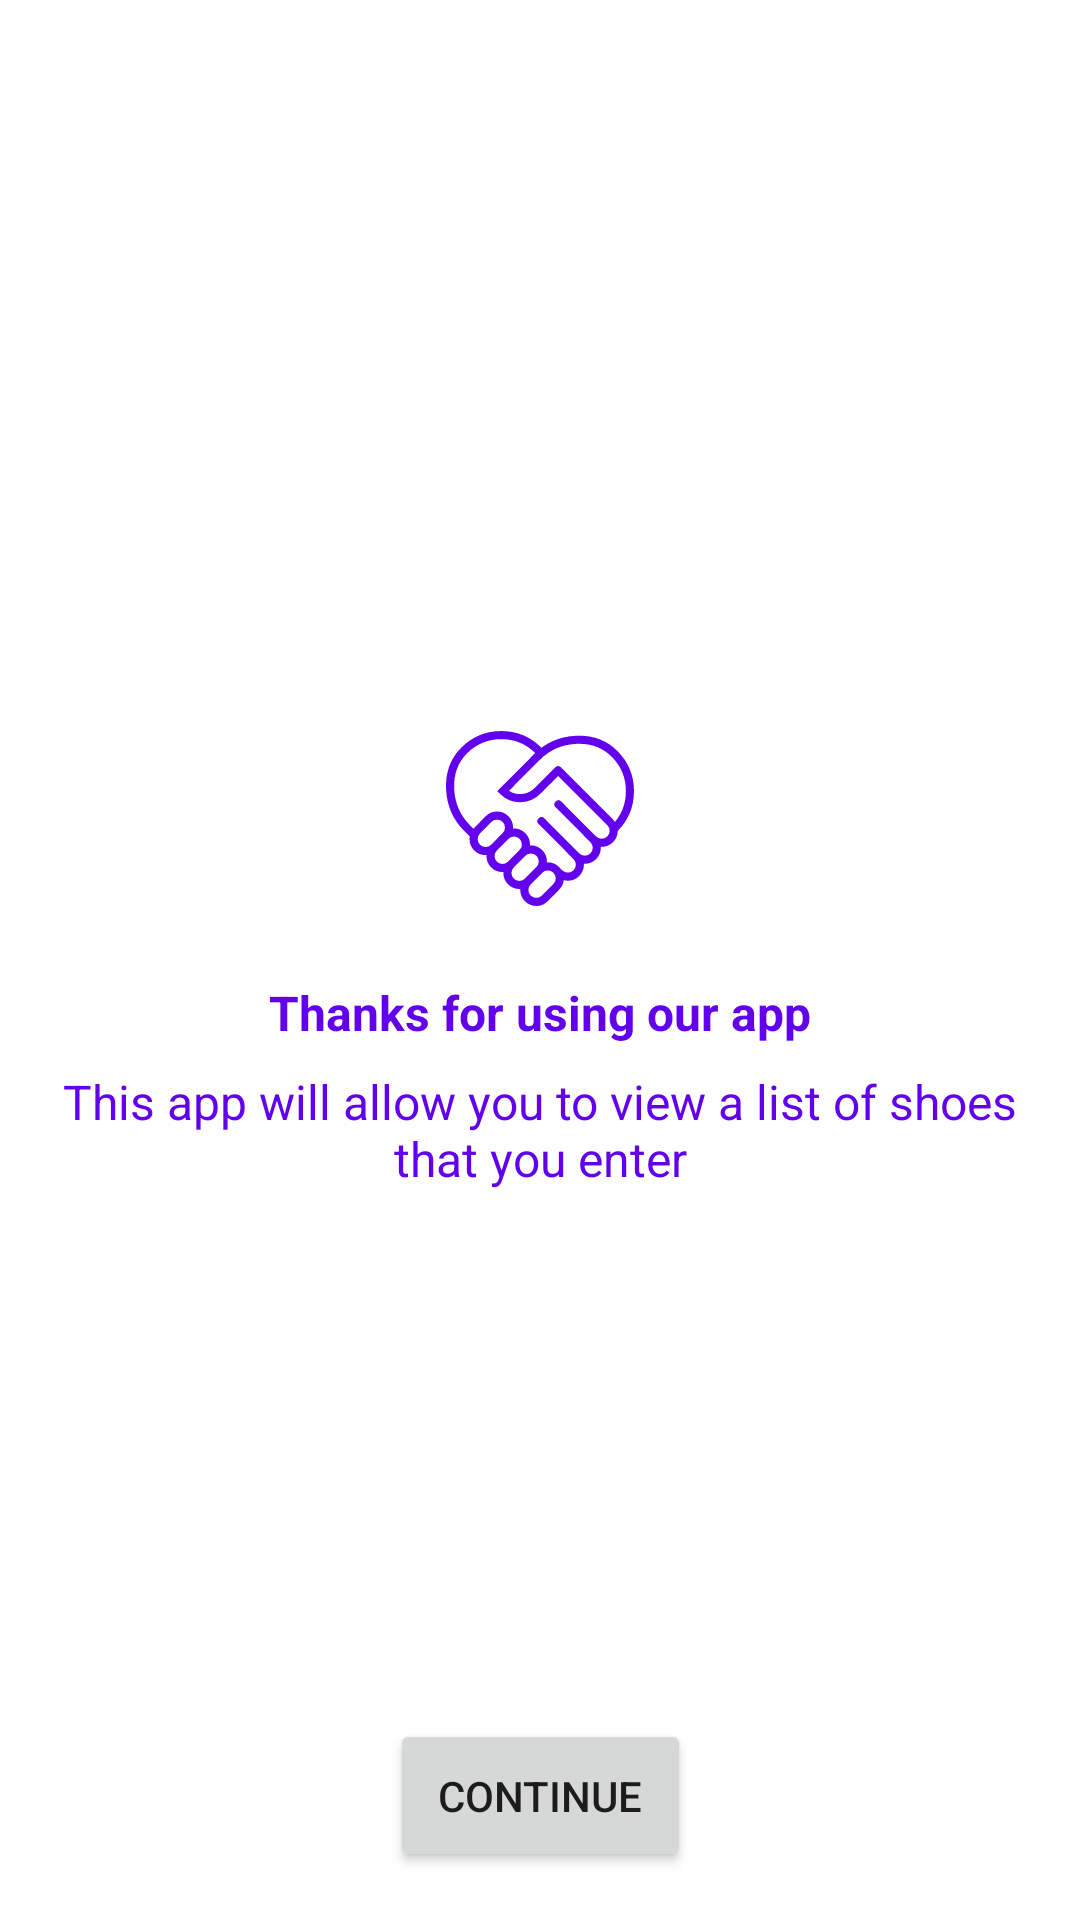

Icons on this 1080 × 1920 Android screen, each with the point to tap as point (x, y):
heart hand shake: point (540, 818)
